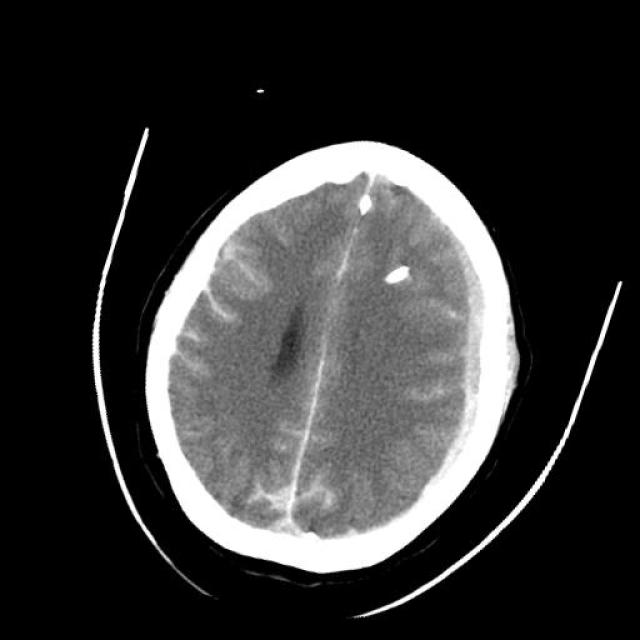Subarachnoid: (158, 232, 284, 403), (391, 294, 493, 438), (251, 401, 353, 477), (291, 458, 357, 532), (234, 462, 295, 528)
Subdural: (327, 202, 572, 550)
